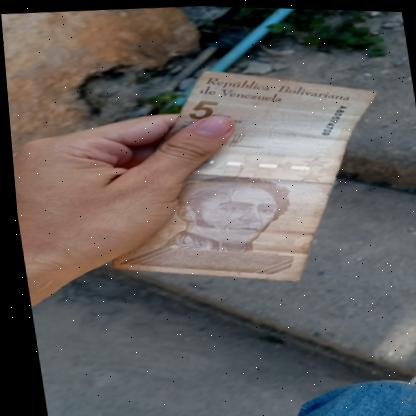five-front-vef: (79, 54, 401, 296)
